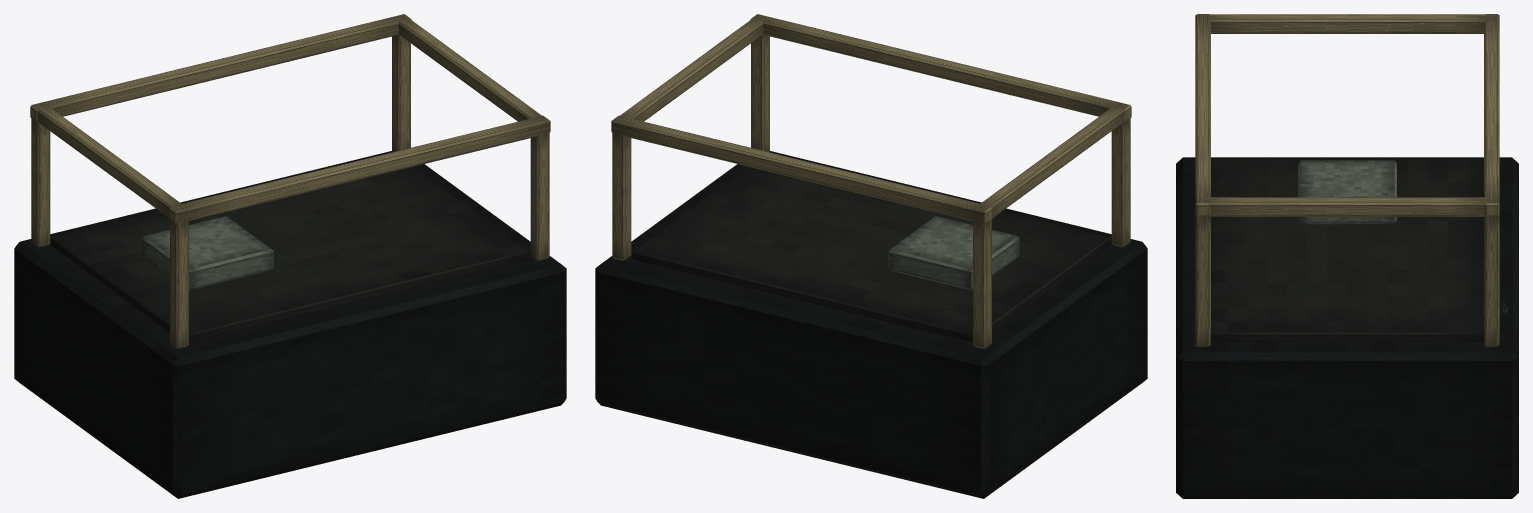
The model's file is THStage_Bay_02_EmptyVitrine.fbx.
3 renders of one model, left to right at view 1: azimuth 30°, elevation 25°; view 2: azimuth 150°, elevation 25°; view 3: azimuth 270°, elevation 25°, orthographic. The views are drawn at different scales.
Parts seen in each view (by area): view 1: THStage_Bay_02_EmptyVitrine; view 2: THStage_Bay_02_EmptyVitrine; view 3: THStage_Bay_02_EmptyVitrine.
Boxes of the visible parts, bbox=[...] form: THStage_Bay_02_EmptyVitrine: bbox=[14, 14, 566, 498]; THStage_Bay_02_EmptyVitrine: bbox=[595, 14, 1147, 498]; THStage_Bay_02_EmptyVitrine: bbox=[1176, 14, 1518, 498].
Size of the model in its own units: 1.05 by 0.7175 by 0.76.
1 material, 1 textured.
